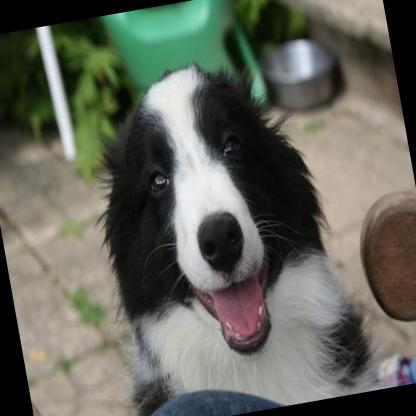Border_collie: (63, 33, 388, 416)
